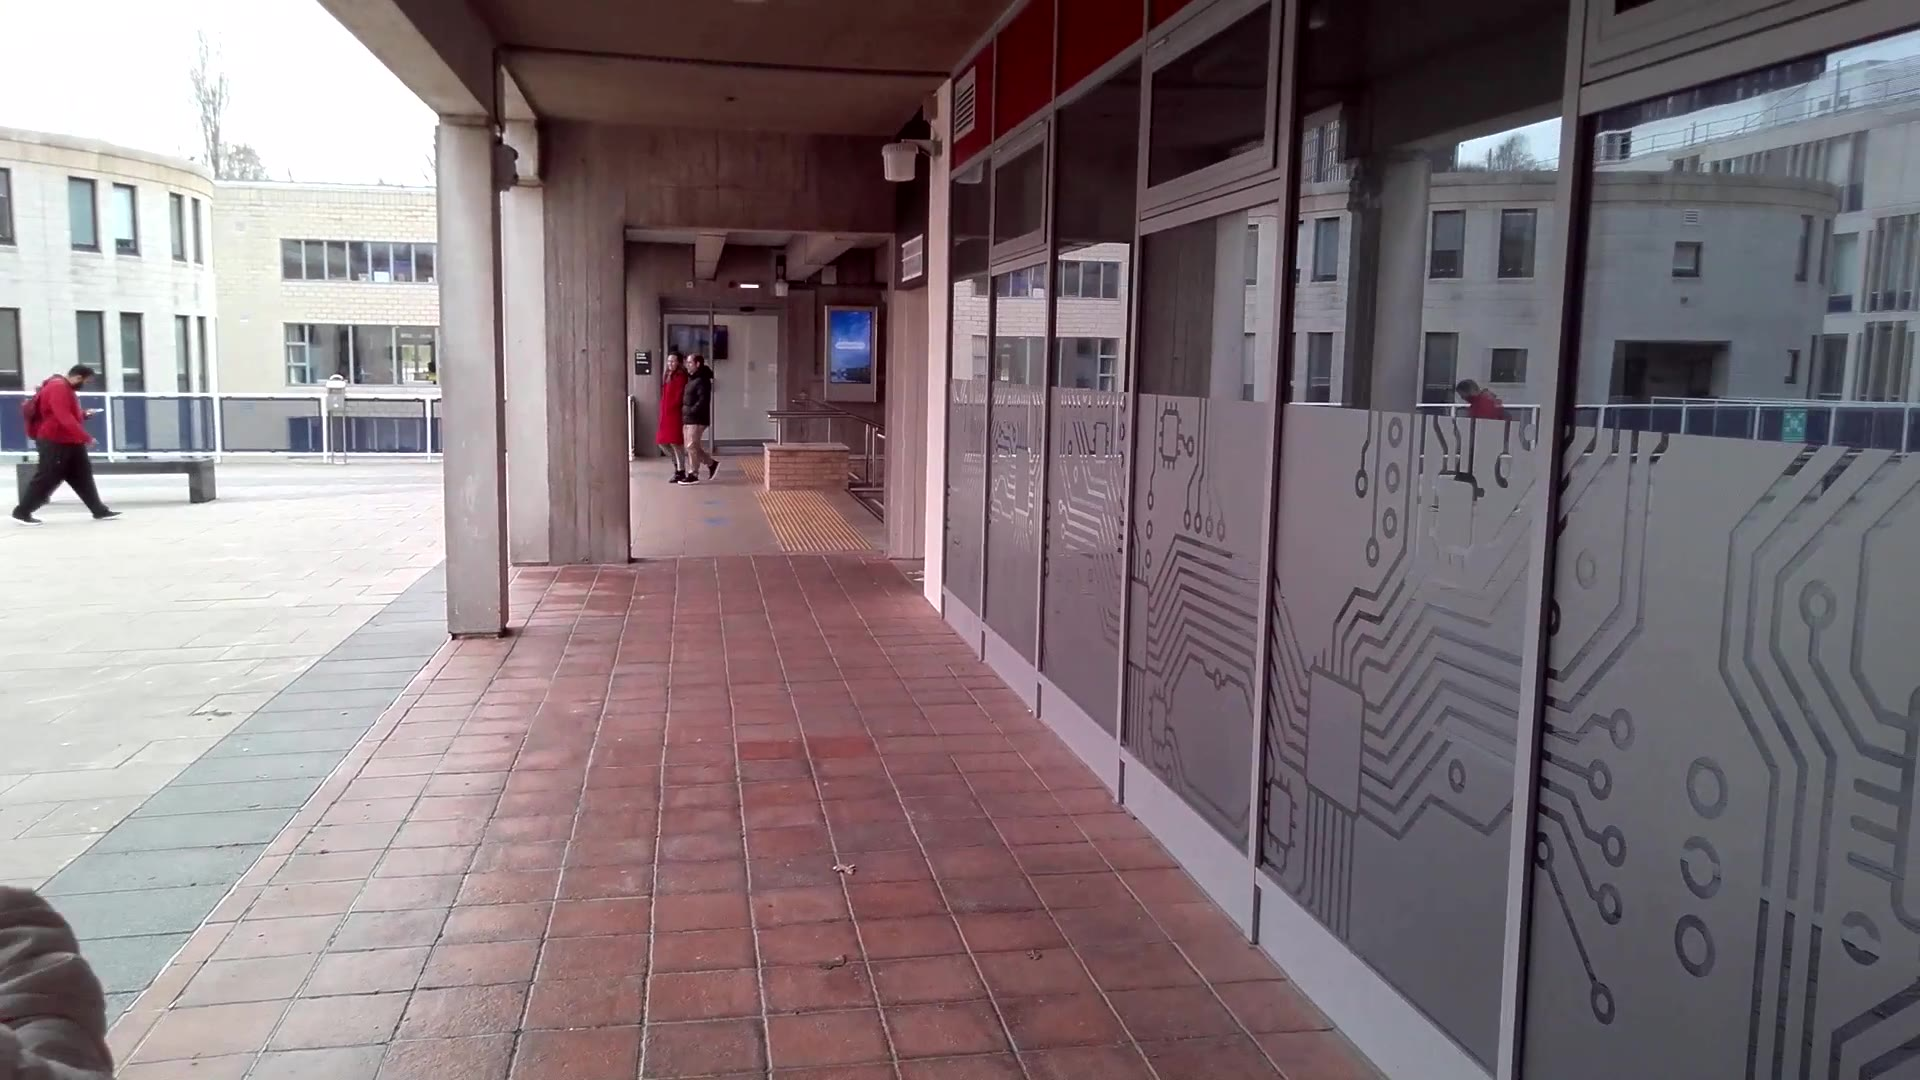Backpack: (18, 387, 56, 449)
Person: (48, 358, 109, 527), (678, 354, 721, 481), (652, 357, 682, 477)
